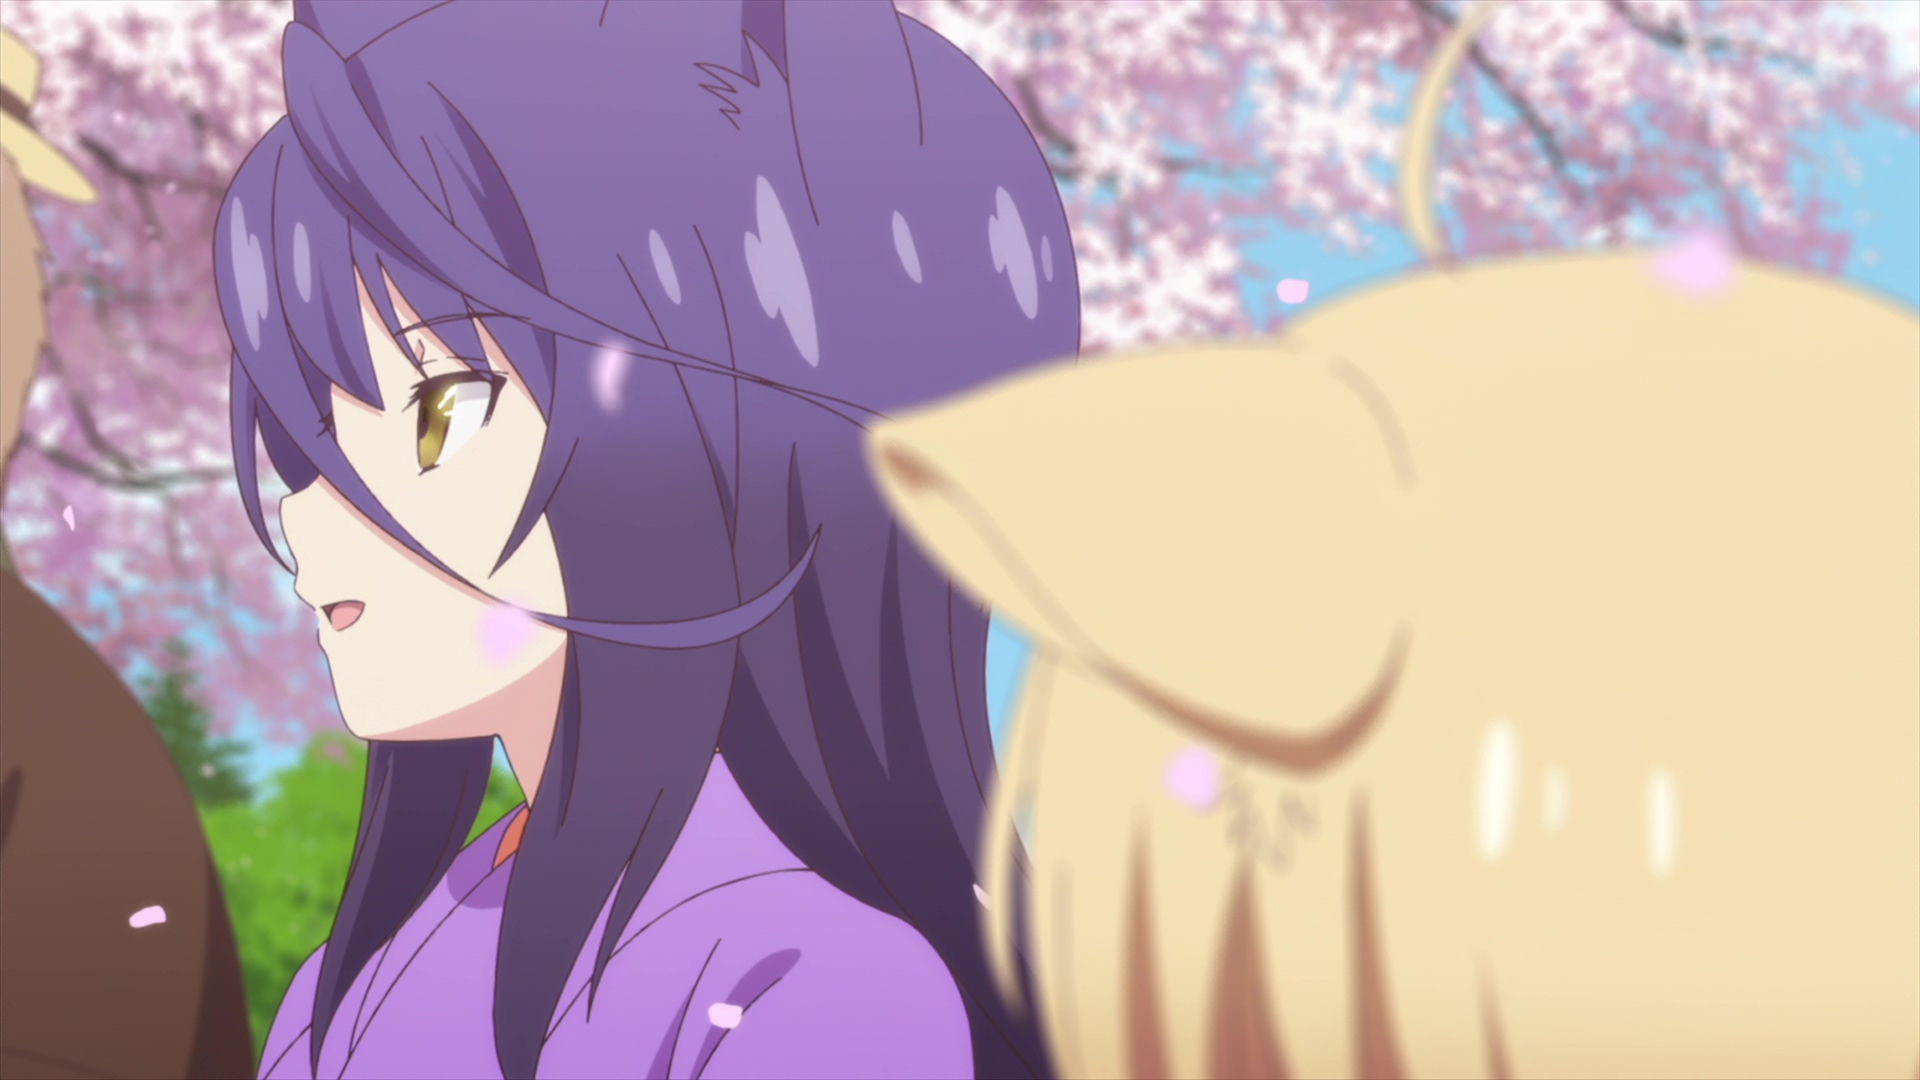其他: (1, 28, 248, 1080)
柚: (866, 1, 1920, 1080)
皋: (210, 1, 1081, 1080)
